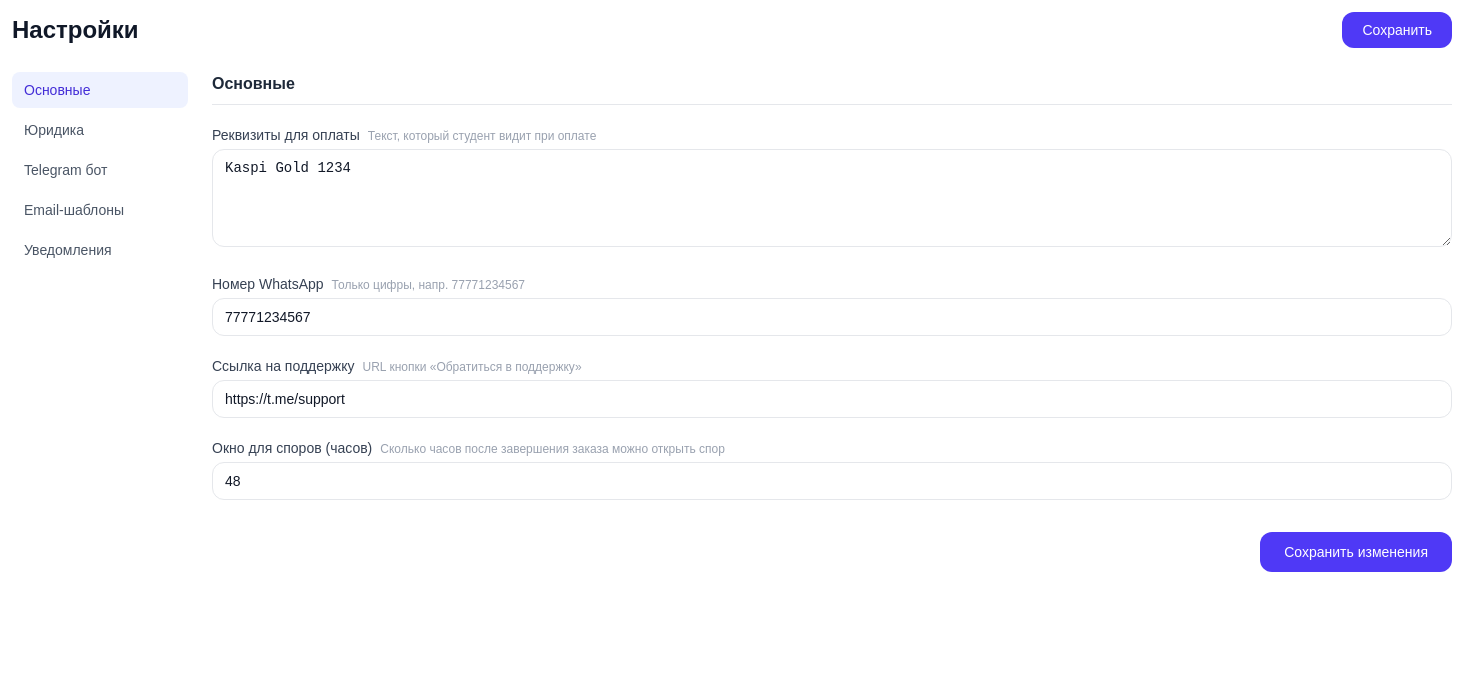
Test: CRMSettingsPage › switches between sections via the sidebar nav
Expected: the text box showing "Kaspi Gold 1234" is shown, [212,149,1452,247]
Expected: the text "Реквизиты для оплаты" is shown, [212,127,360,143]
Click the button "Юридика" at (100, 130), box [12,112,188,148]
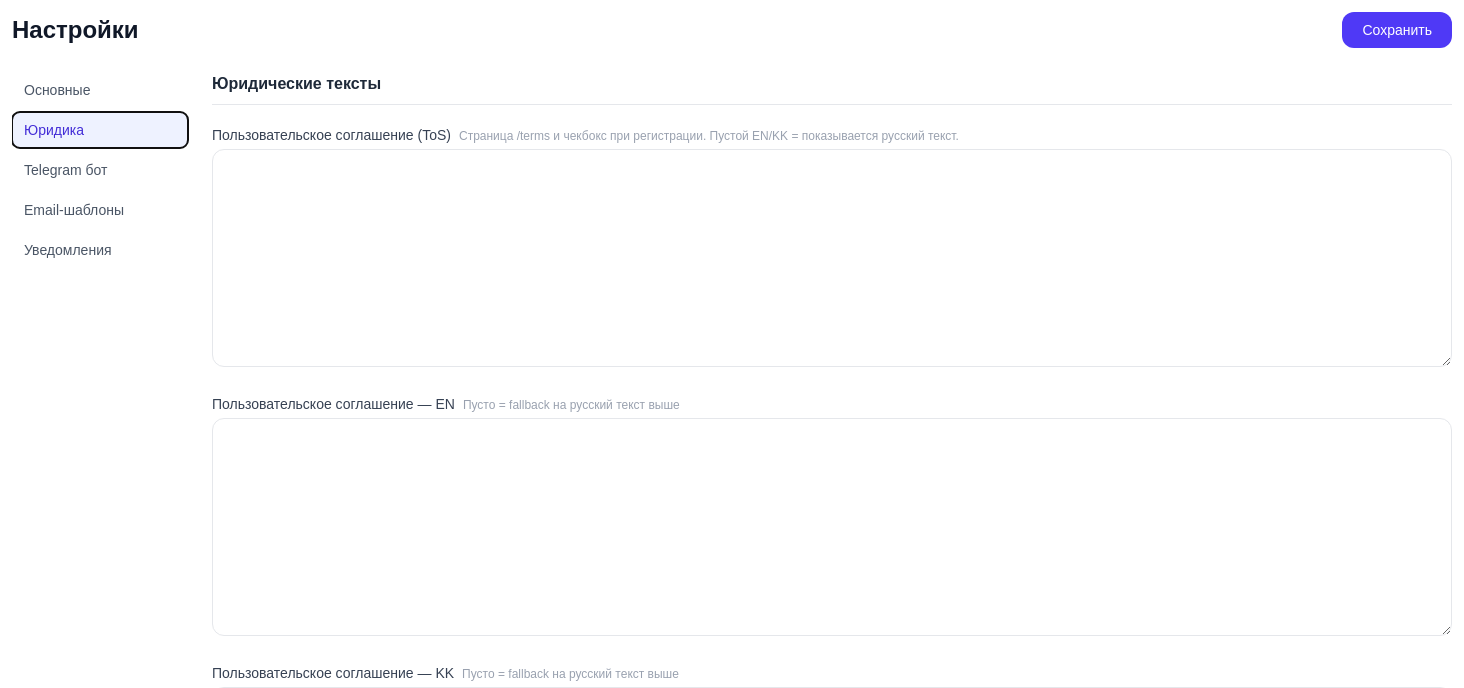
Expected: the text "Пользовательское соглашение (ToS)" is shown, [212,127,451,143]
Expected: the text "Реквизиты для оплаты" is gone
